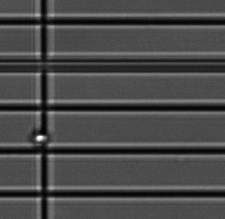Living Cell: (30, 130, 50, 147)
